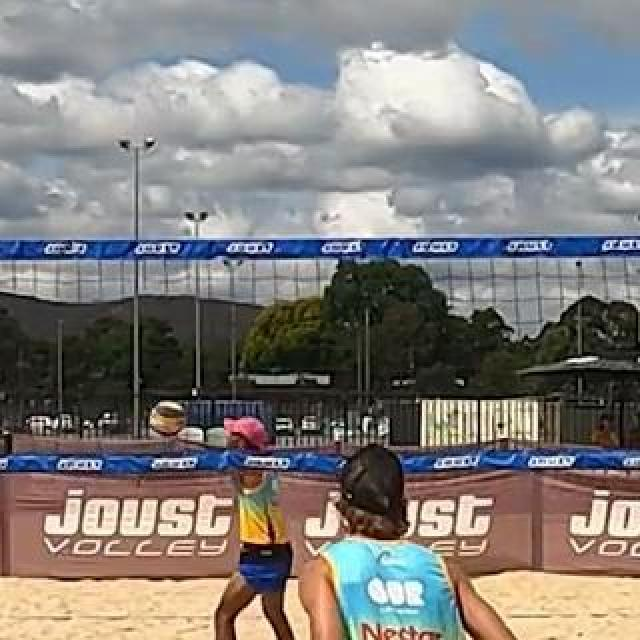volleyball: (150, 401, 184, 437)
